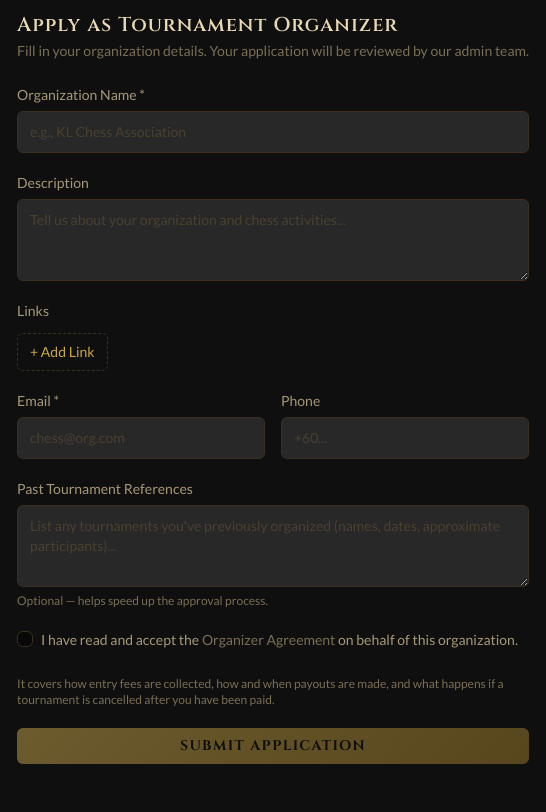
Scenario: ApplyForm › removeLink › removes a link row when clicking the remove button
Click the button "+ Add Link".
click(62, 352)  # box [17,333,108,371]
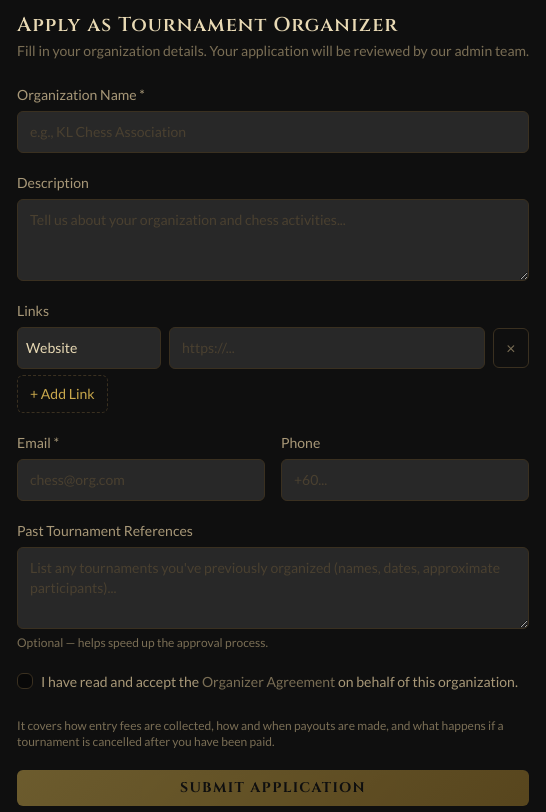
Click the button "+ Add Link".
click(62, 394)  # box [17,375,108,413]
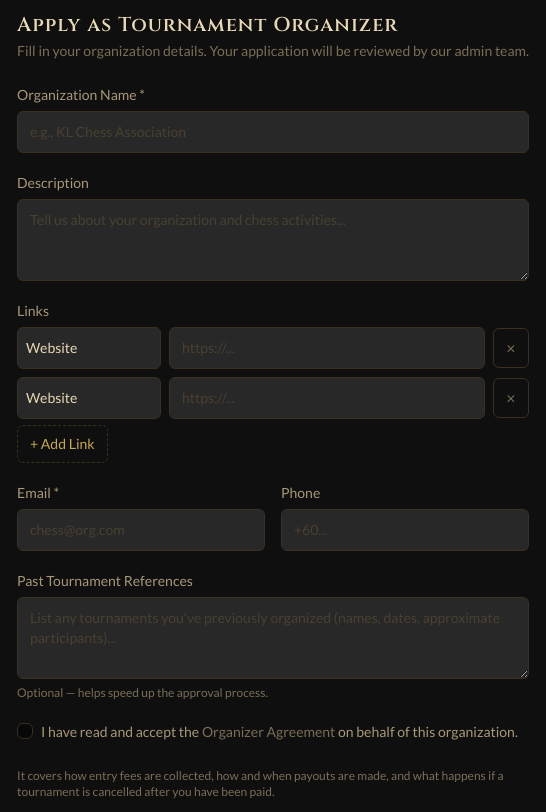
Click the button named "Remove link".
click(511, 348)  # box [493,328,529,368]
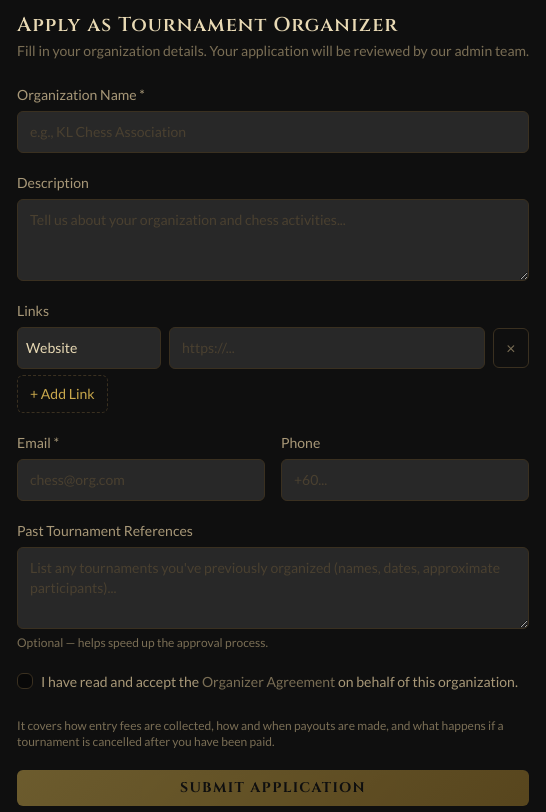
Now the number of buttons named "Remove link" is 1, box [493,328,529,368]
